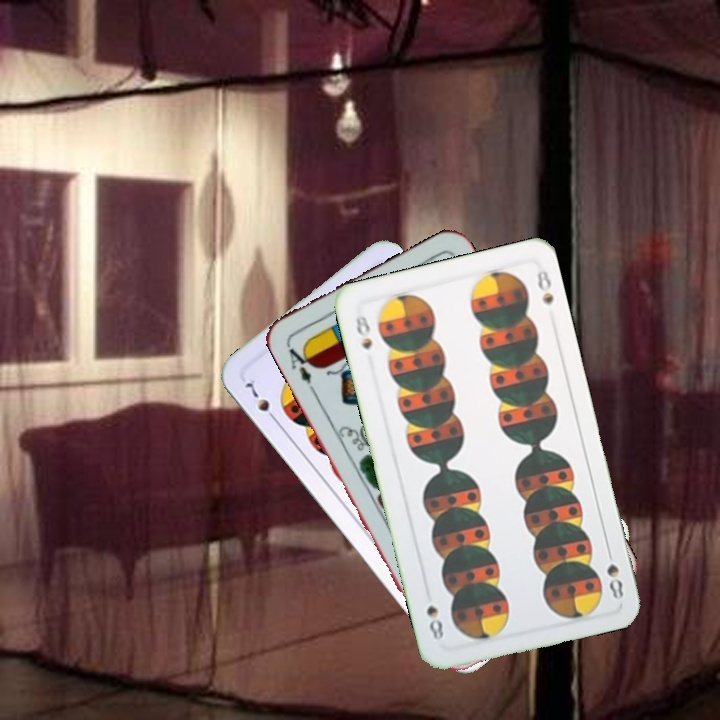EA: (282, 339, 317, 394)
S7: (241, 377, 281, 426)
S8: (602, 544, 626, 602), (351, 308, 375, 353)
